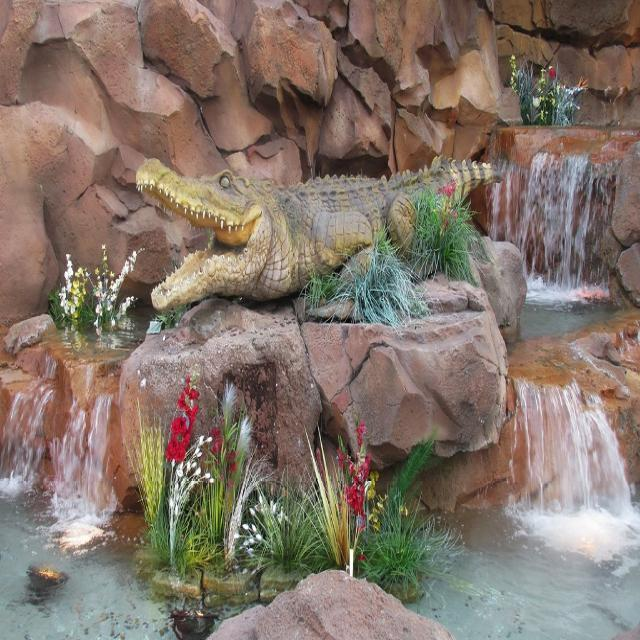crocodile: (123, 151, 514, 311)
